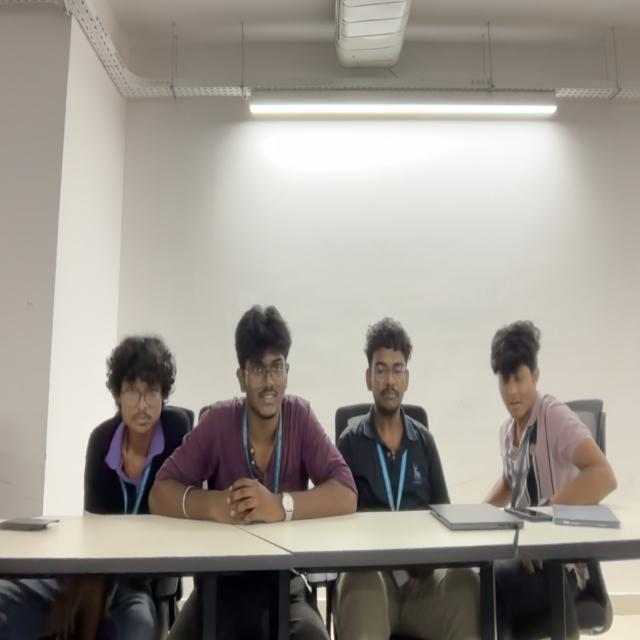Isolated: (490, 319, 617, 513)
socializing: (84, 308, 450, 520)
